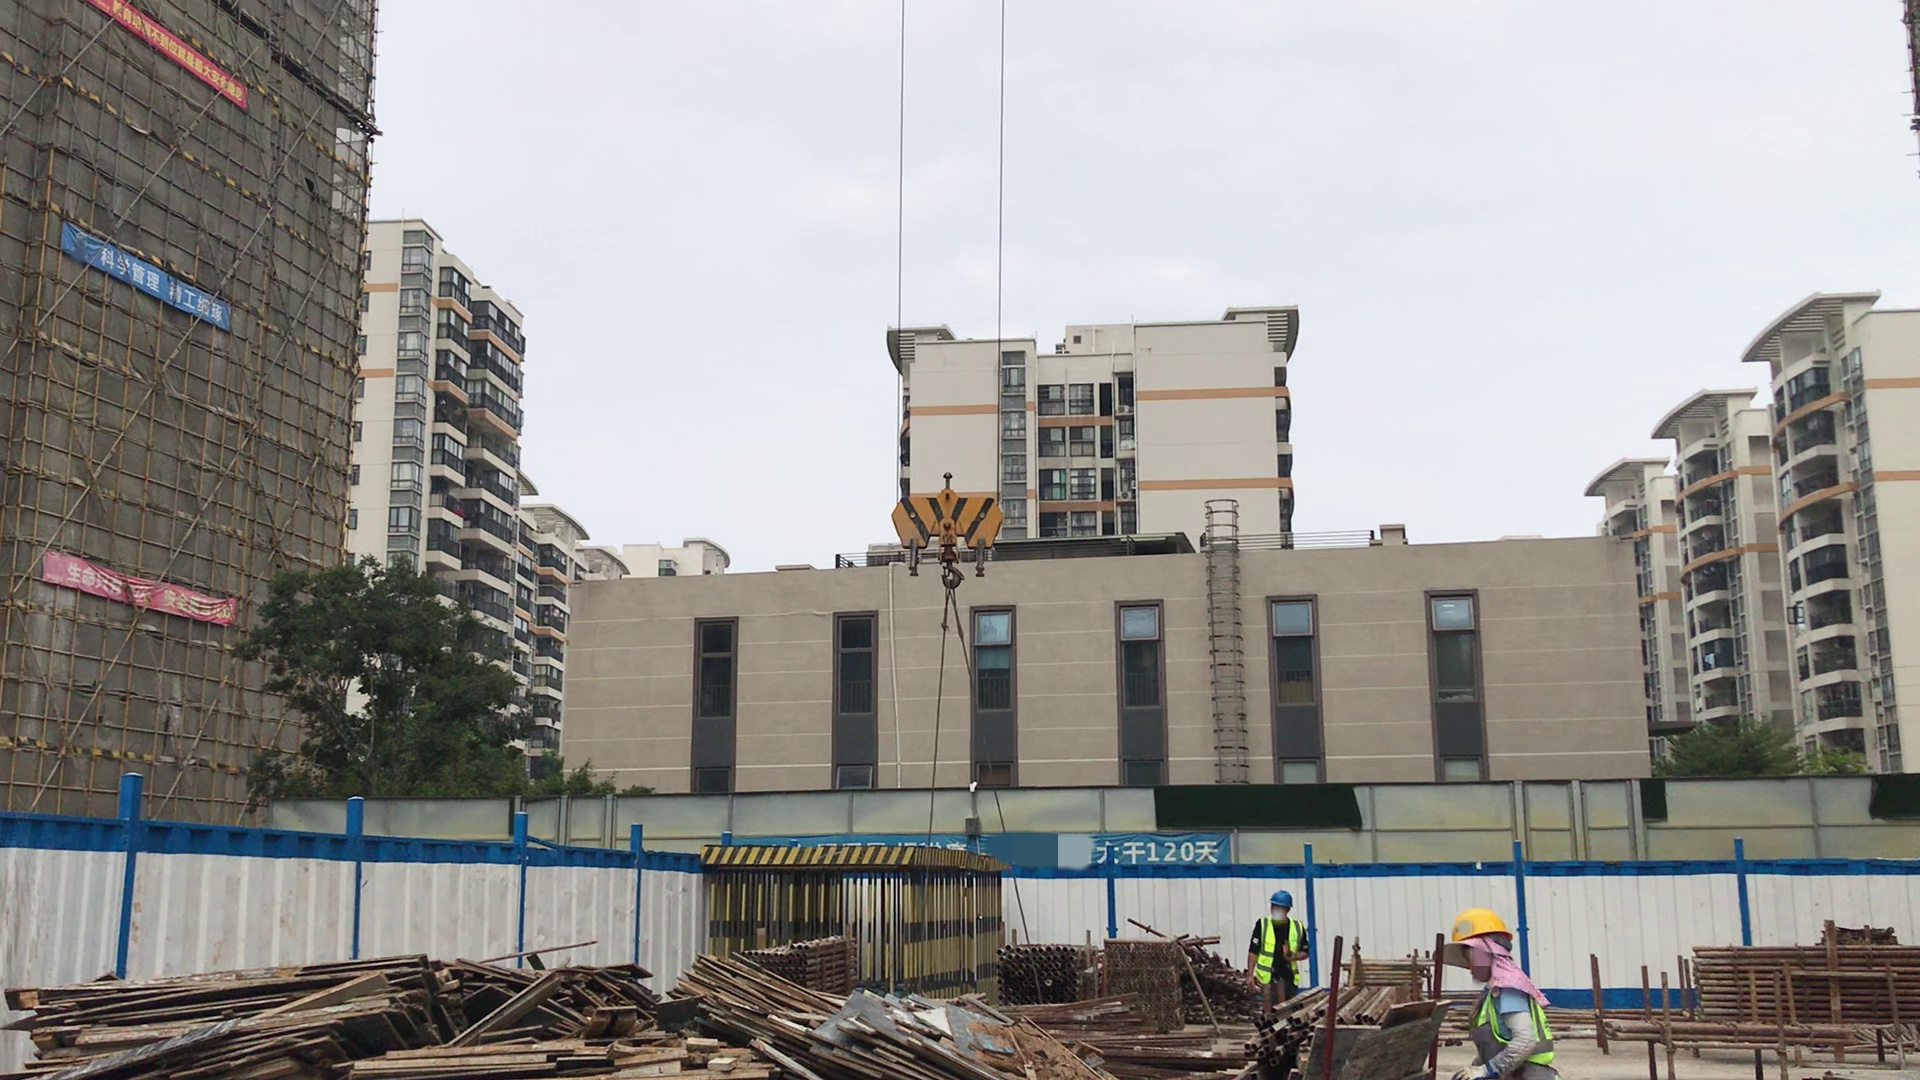helmet: (1449, 909, 1511, 944), (1268, 888, 1294, 908)
hook: (889, 486, 1005, 589)
person: (1434, 911, 1561, 1080), (1247, 889, 1310, 994)
scaffold: (1673, 930, 1920, 1067), (991, 933, 1183, 1031), (747, 930, 859, 996), (1341, 948, 1422, 1026)
slogan: (39, 540, 229, 636), (62, 221, 228, 324), (84, 1, 244, 104), (858, 832, 1235, 861)
vest: (1483, 992, 1557, 1062), (1254, 916, 1303, 986)
